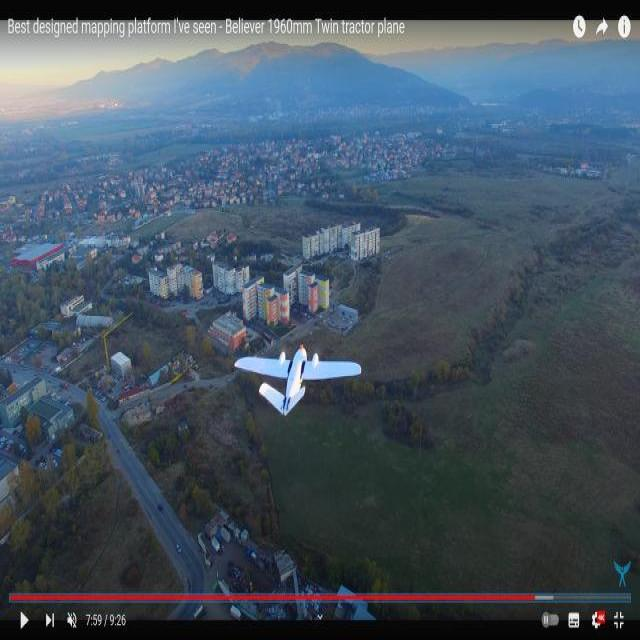iha: (275, 352, 326, 408)
